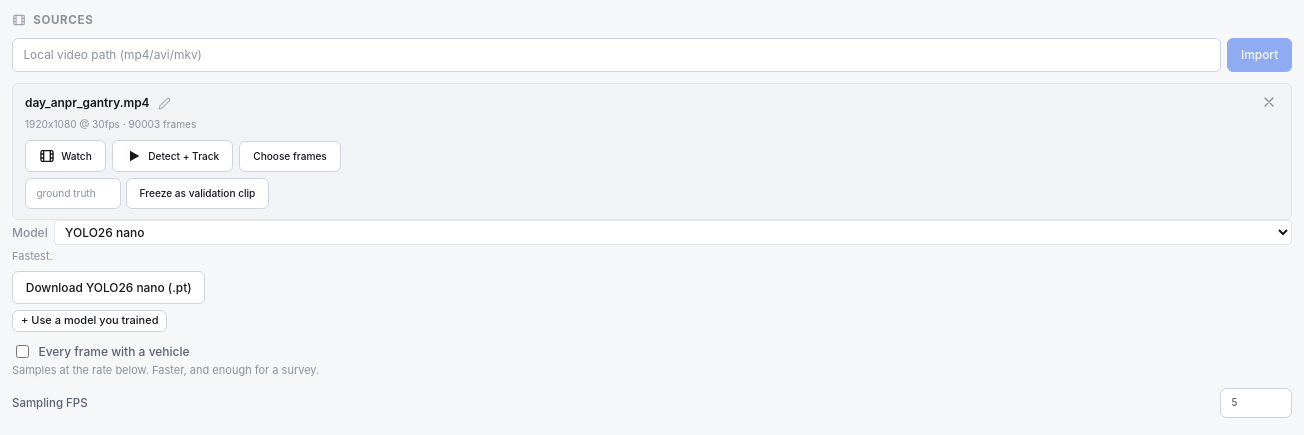
Test: Keeping every frame with a vehicle in it › says what the mode actually does
Click the checkbox labelled "Every frame with a vehicle" at (22, 351), box [16, 345, 29, 358]
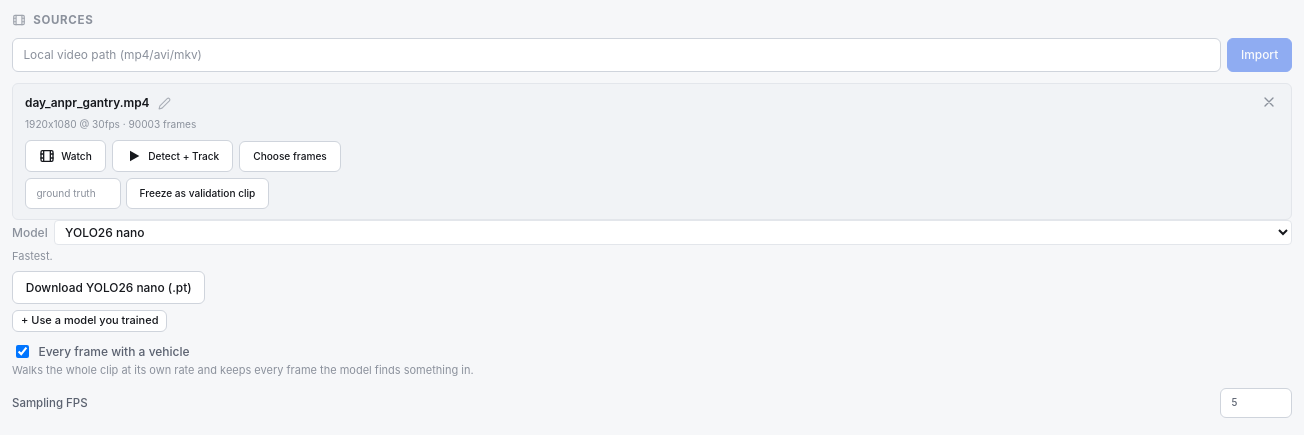
Now the text "Walks the whole clip" is shown, box [12, 363, 474, 377]
